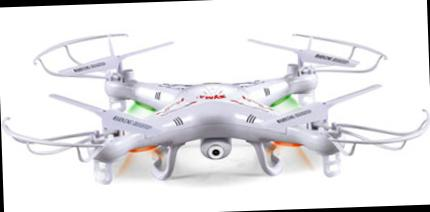drone: (7, 24, 430, 189)
